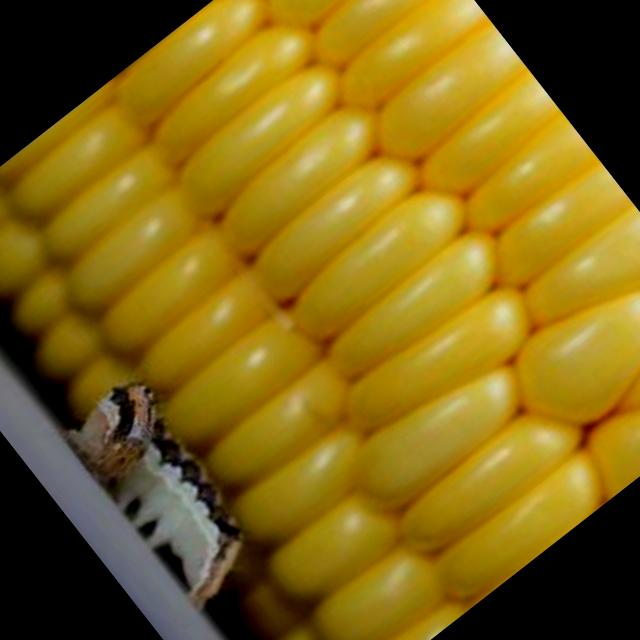Cotton bollworm: (12, 315, 327, 640)
